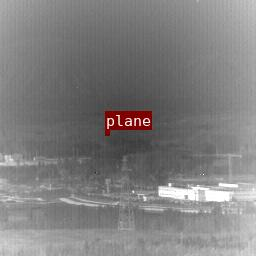plane: (105, 130, 109, 133)
